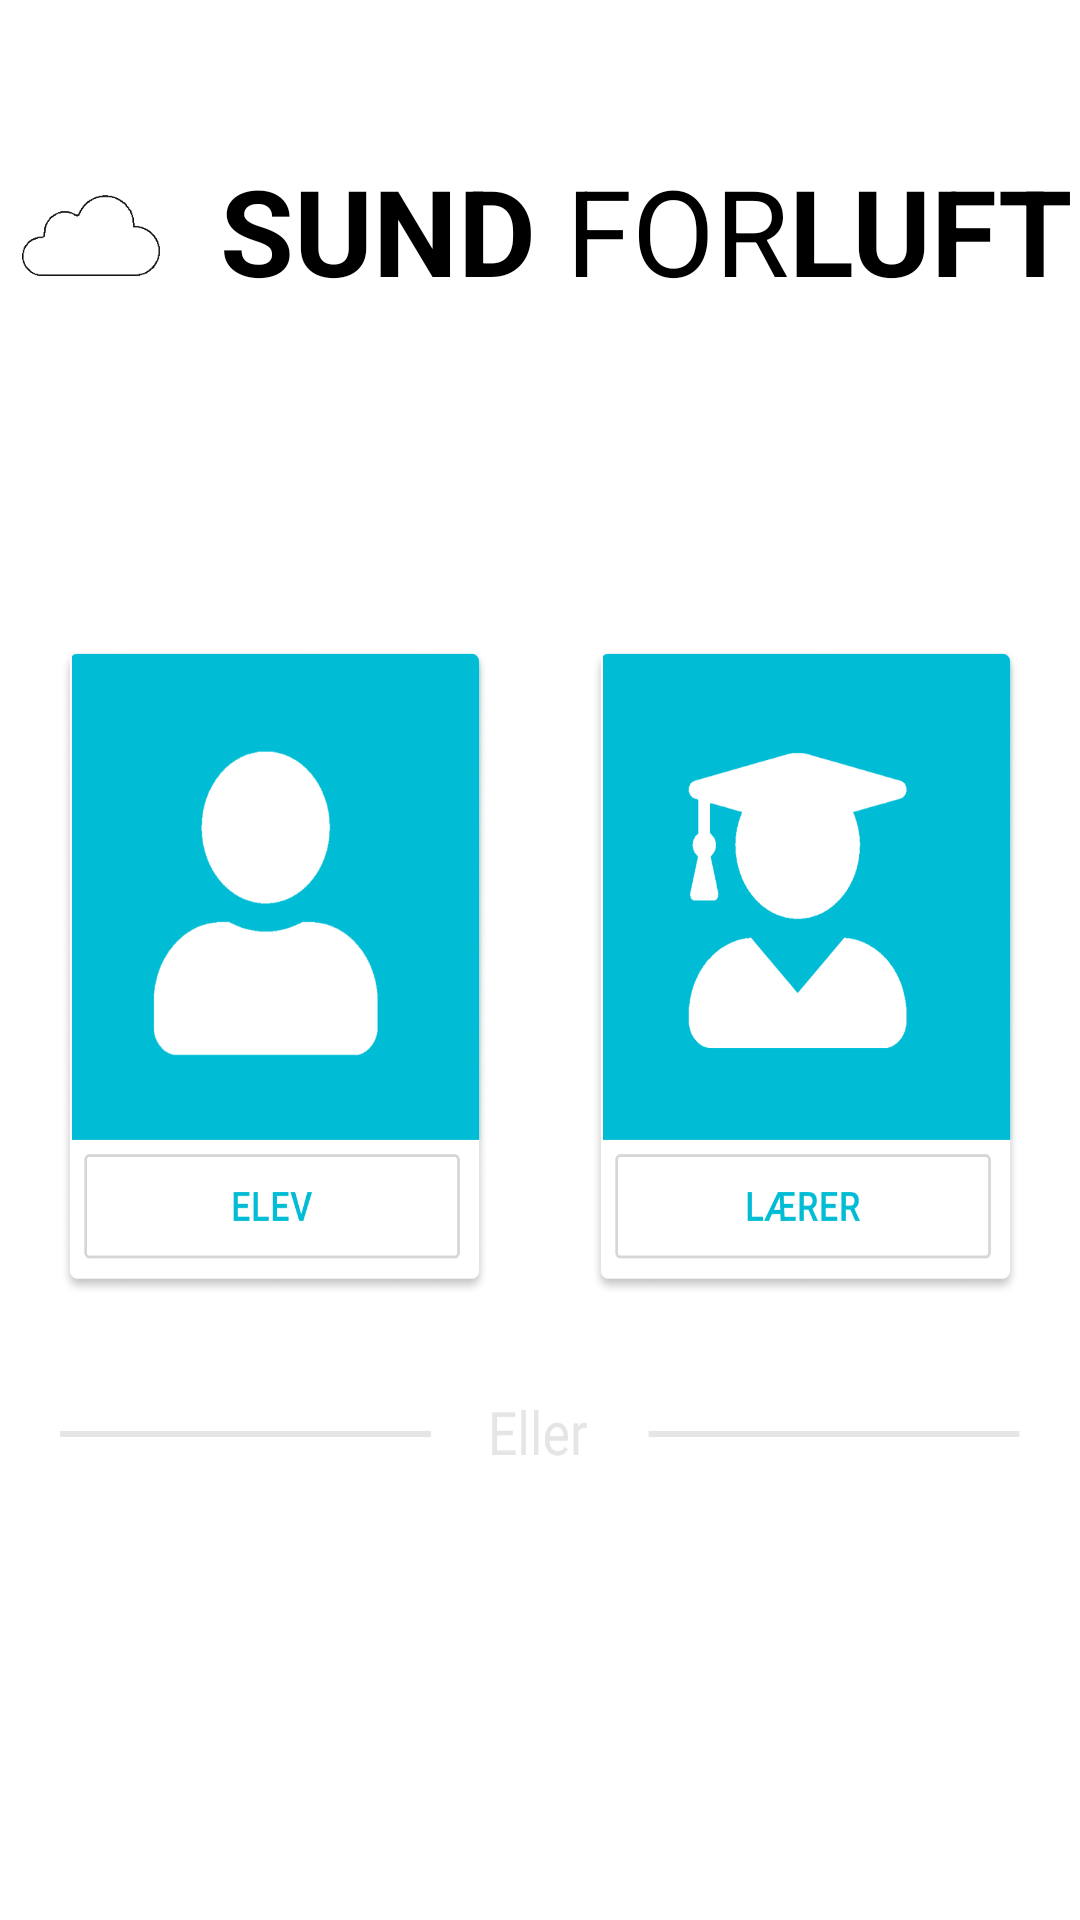

Where icons sit on this 1080*1920 app screen, as bbox=(x1, y1, x2, y2):
sky: bbox=(22, 195, 160, 276)
